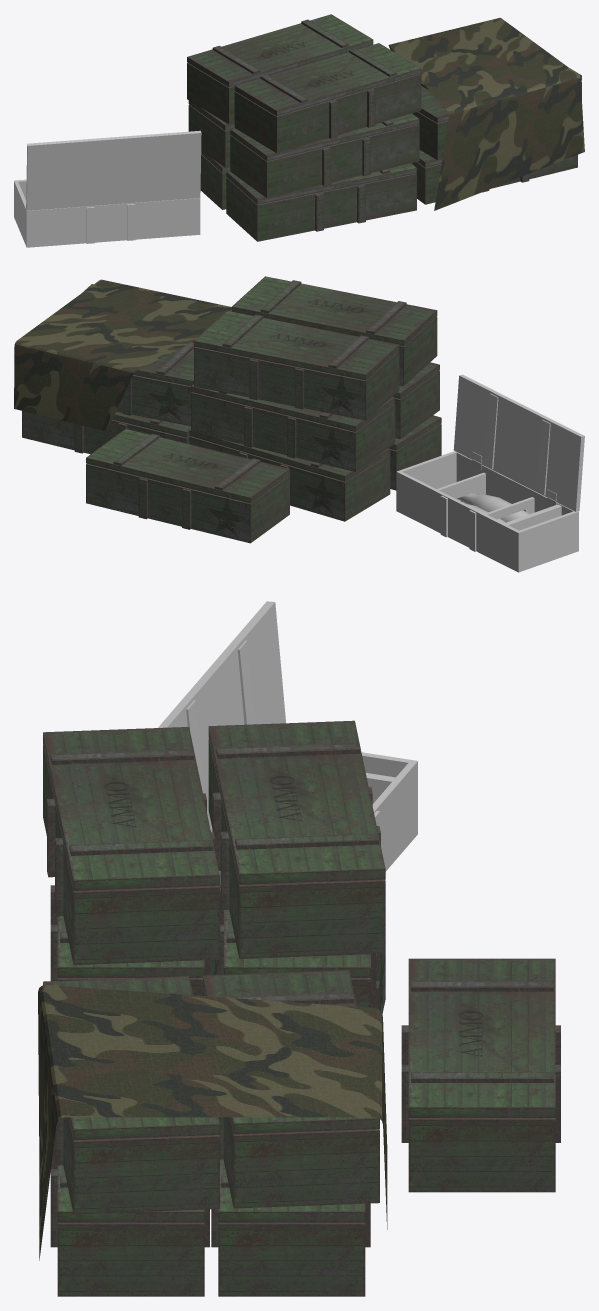
Rendered from FSDFSD.fbx.
3 views of the same model, one above another, from view 1: azimuth 30°, elevation 25°; view 2: azimuth 150°, elevation 25°; view 3: azimuth 270°, elevation 25° (orthographic). The views are drawn at different scales.
Visible parts, largest first — view 1: Plane001, Сундук открытый, Сундук закрытый010, Сундук закрытый006, Сундук закрытый002, Сундук закрытый009, Сундук закрытый005, Сундук закрытый007, Сундук закрытый003, Сундук закрытый001; view 2: Сундук открытый, Plane001, Сундук закрытый009, Сундук закрытый, Сундук закрытый005, Сундук закрытый010, Сундук закрытый001, Сундук закрытый008, Сундук закрытый004, Сундук закрытый006, Сундук закрытый002; view 3: Plane001, Сундук закрытый010, Сундук закрытый009, Сундук закрытый, Сундук закрытый008, Сундук закрытый007, Сундук закрытый004, Сундук закрытый003, Сундук открытый, Сундук закрытый005, Сундук закрытый006.
Boxes of the visible parts, x1,y1,x2,y2 form: Plane001: (388, 18, 584, 210); Сундук открытый: (14, 130, 201, 247); Сундук закрытый010: (234, 43, 421, 153); Сундук закрытый006: (230, 113, 419, 198); Сундук закрытый002: (226, 163, 416, 241); Сундук закрытый009: (187, 14, 373, 124); Сундук закрытый005: (188, 100, 234, 167); Сундук закрытый007: (412, 68, 581, 160); Сундук закрытый003: (412, 150, 577, 204); Сундук закрытый001: (200, 150, 230, 209); Сундук открытый: (396, 374, 584, 572); Plane001: (14, 279, 231, 431); Сундук закрытый009: (194, 310, 399, 420); Сундук закрытый: (86, 429, 289, 543); Сундук закрытый005: (191, 384, 395, 471); Сундук закрытый010: (231, 276, 437, 385); Сундук закрытый001: (189, 429, 390, 521); Сундук закрытый008: (116, 342, 194, 426); Сундук закрытый004: (22, 411, 190, 454); Сундук закрытый006: (392, 362, 439, 438); Сундук закрытый002: (388, 415, 441, 490); Plane001: (38, 985, 387, 1260); Сундук закрытый010: (43, 727, 219, 964); Сундук закрытый009: (208, 720, 385, 958); Сундук закрытый: (401, 958, 560, 1192); Сундук закрытый008: (203, 970, 379, 1208); Сундук закрытый007: (43, 976, 219, 1214); Сундук закрытый004: (211, 1159, 370, 1296); Сундук закрытый003: (50, 1138, 209, 1296); Сундук открытый: (158, 601, 417, 885); Сундук закрытый005: (217, 885, 376, 1007); Сундук закрытый006: (50, 885, 209, 995).
Bounding box in the file's own units: 157 × 41.29 × 70.11.
